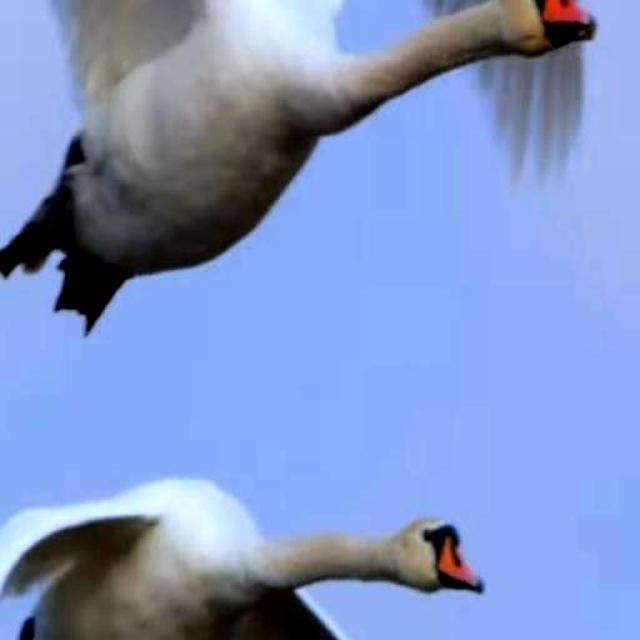airplane: (0, 0, 606, 330), (0, 471, 500, 640)
